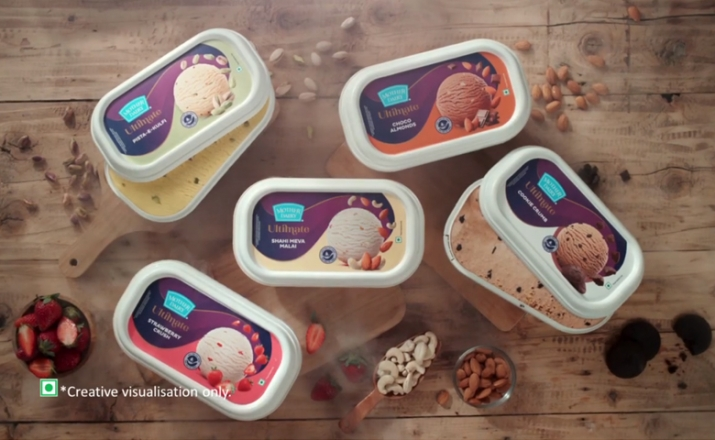Mother_Dairy: (533, 163, 569, 207), (158, 284, 197, 324), (262, 195, 310, 223), (111, 96, 152, 124), (375, 84, 414, 112)
